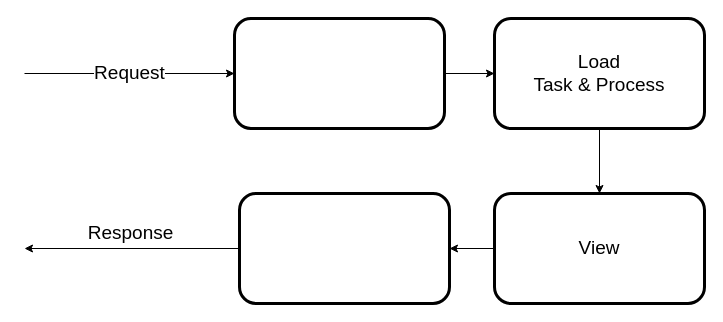
Some shapes in this 723 by 322 pixel diagram are drawn without their labels. Each missing label, with the centre of its shape:
"Activate next tasks" belongs at (x=344, y=248).
"Lock on process_pk" belongs at (x=339, y=73).
